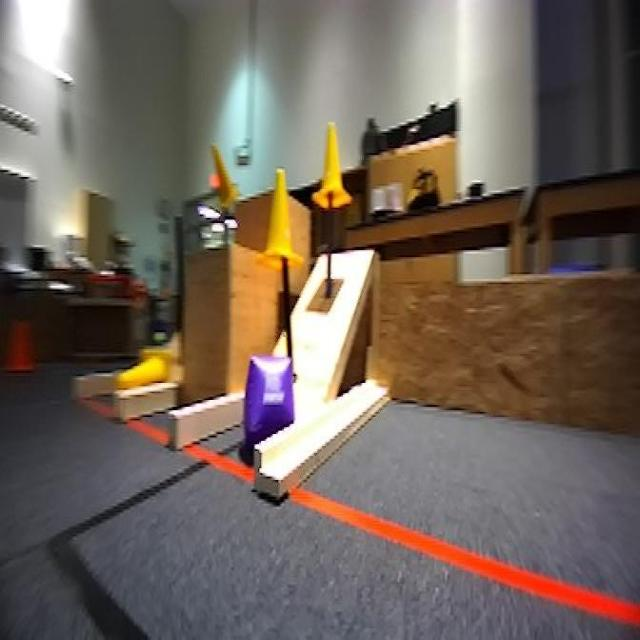frc_cone: (260, 167, 304, 274), (315, 119, 355, 211), (115, 339, 173, 386), (210, 136, 244, 215)
frc_cube: (241, 346, 299, 448)
